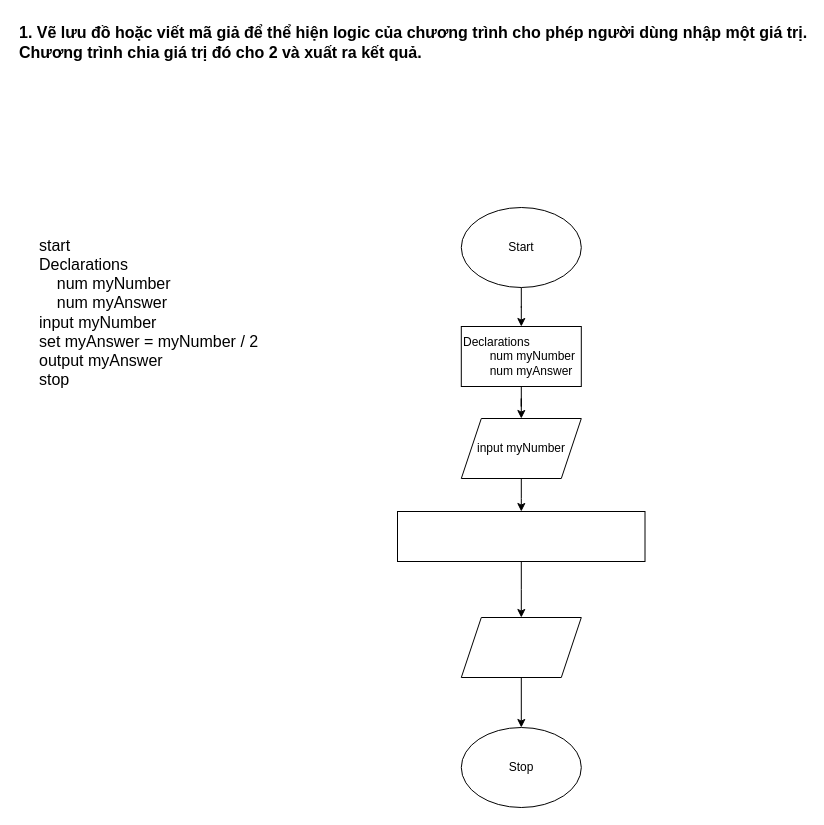
Image size: 824x825. Some labels were removed from this diagram. The shapes that lost their labels are listed below. From the top down, each one's centre as x and y in pixels, then its label:
the point at 520,536: myAnswer = myNumber / 2
the point at 520,647: output myAnswer
